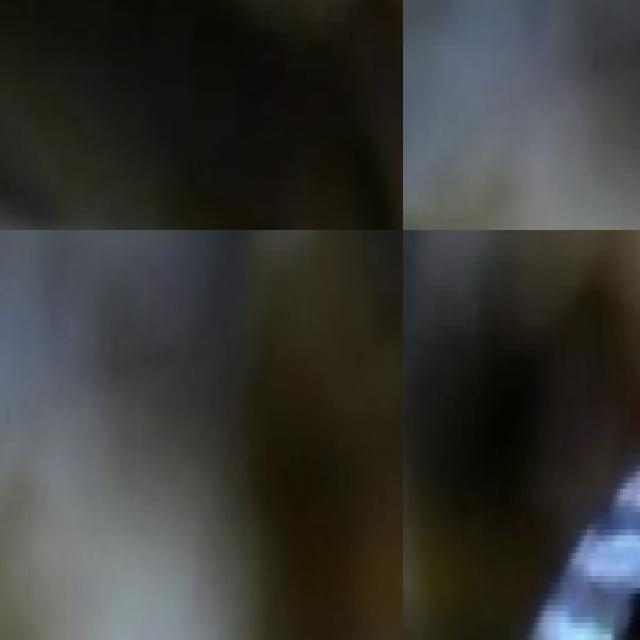fish: (0, 0, 403, 230), (450, 378, 640, 640)
